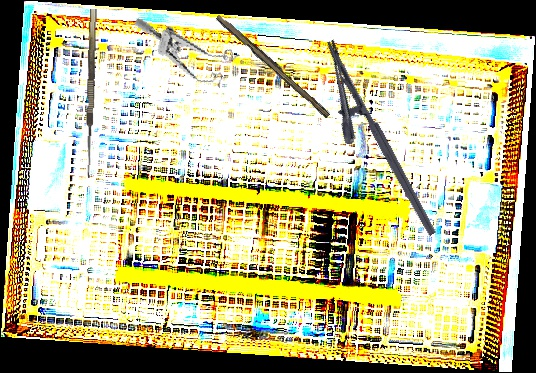Hook Surgical: (84, 8, 106, 179)
Needle Holder: (299, 38, 438, 251)
Scalpel Handle: (213, 12, 334, 119)
Speculum: (123, 17, 243, 91)
